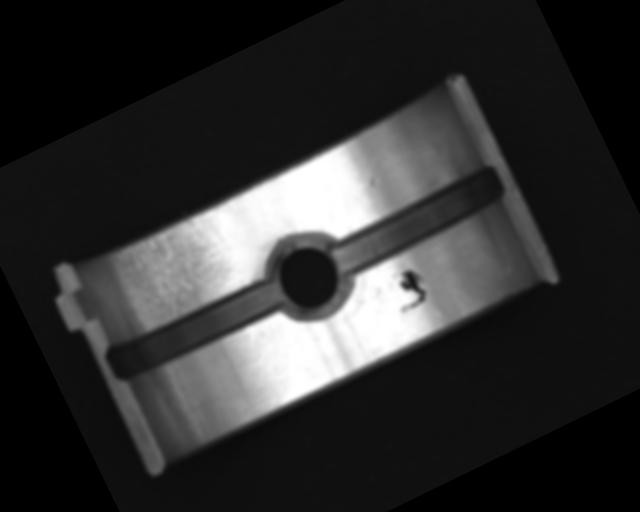blot: (382, 261, 434, 316)
bruise: (367, 175, 381, 188)
gap: (323, 158, 513, 282), (100, 271, 287, 388)
hole: (249, 218, 363, 335)
nick: (241, 321, 264, 347)
scratch: (96, 201, 256, 341)
